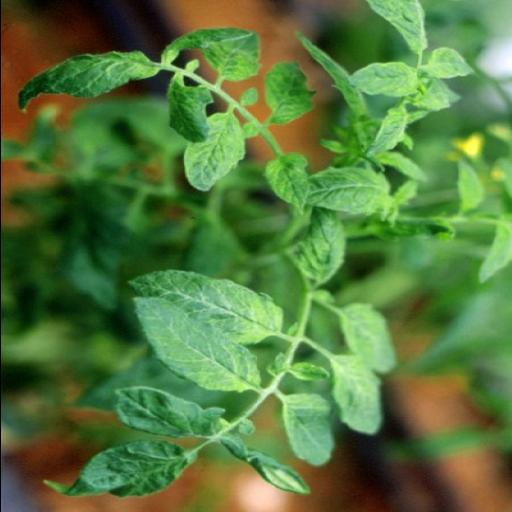disease_tomato: (130, 298, 264, 394), (128, 274, 283, 340), (40, 442, 198, 502), (15, 50, 159, 114), (324, 354, 394, 432), (266, 388, 336, 464), (178, 113, 246, 189), (302, 168, 388, 216), (256, 62, 311, 128), (261, 151, 307, 219), (361, 102, 412, 158), (343, 62, 416, 98)
